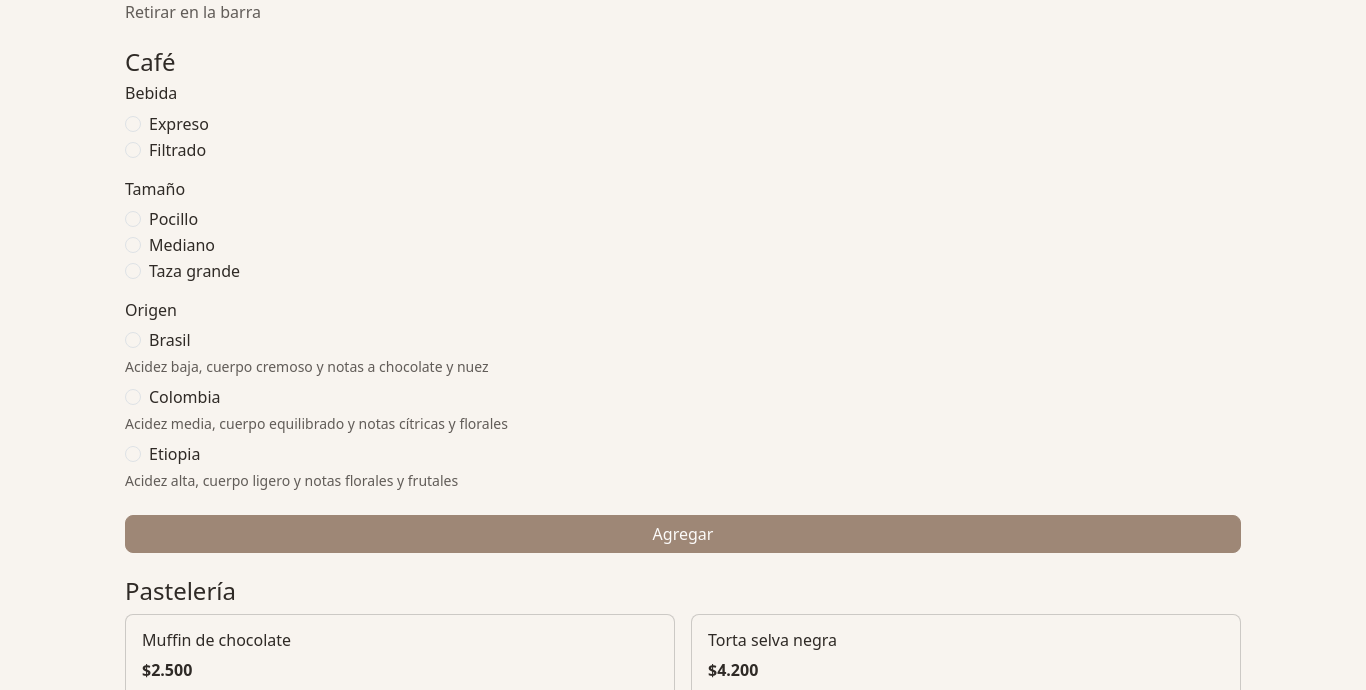
Test case: App › muestra el error del backend y no vacía el carrito si falla
Click the radio button labelled "Expreso": coordinates (133, 124) [125,116,141,132]
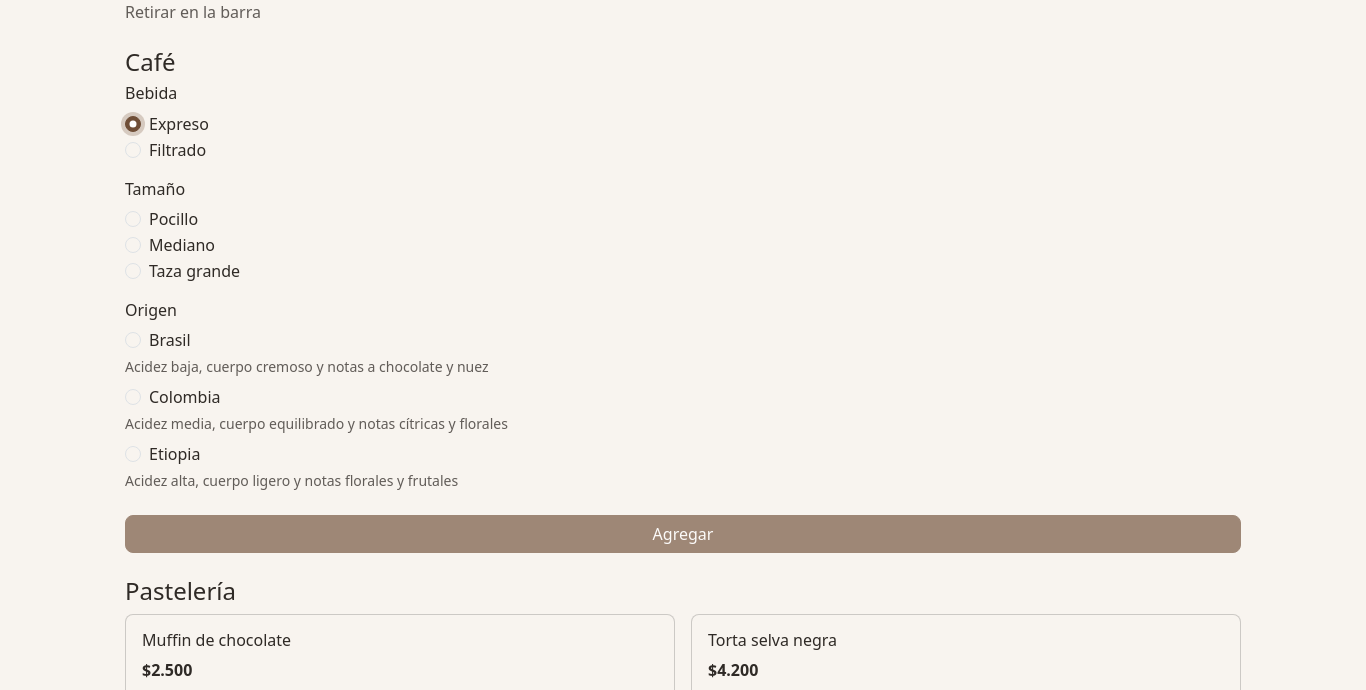
Click the radio button labelled "Mediano": coordinates (133, 245) [125,237,141,253]
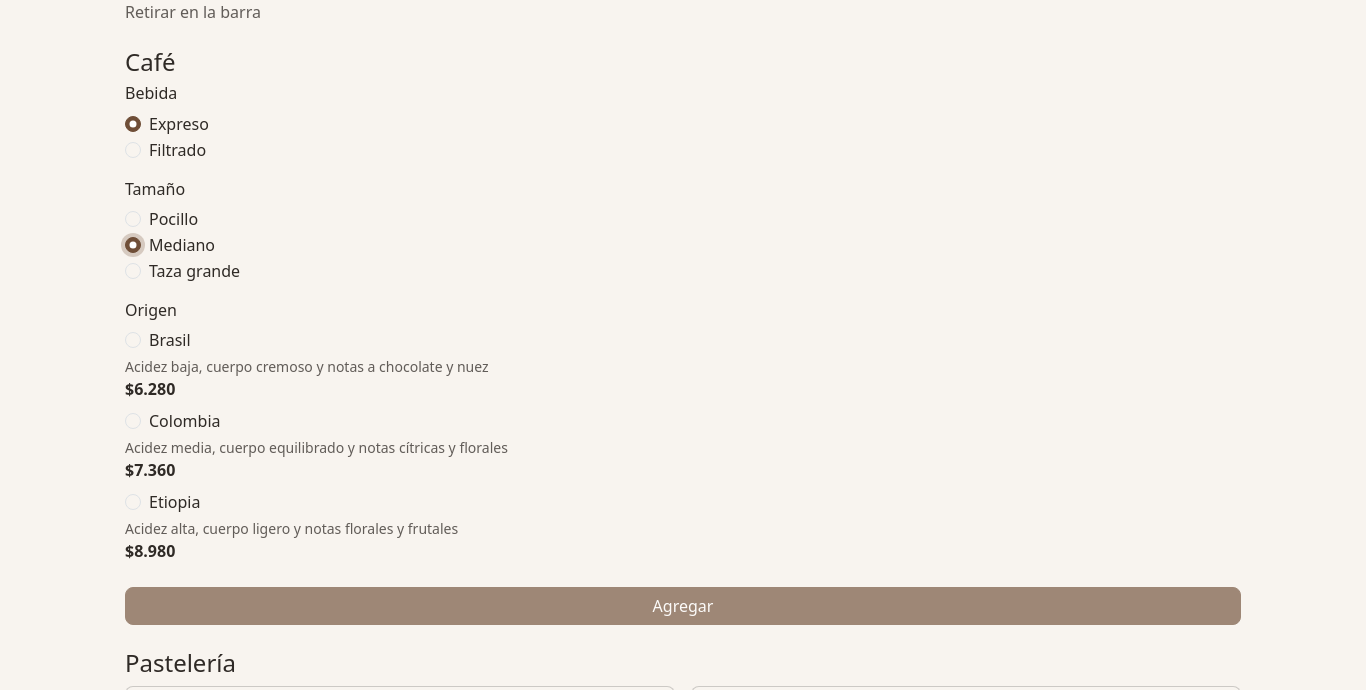
Click the radio button labelled "Colombia": coordinates (133, 421) [125,413,141,429]
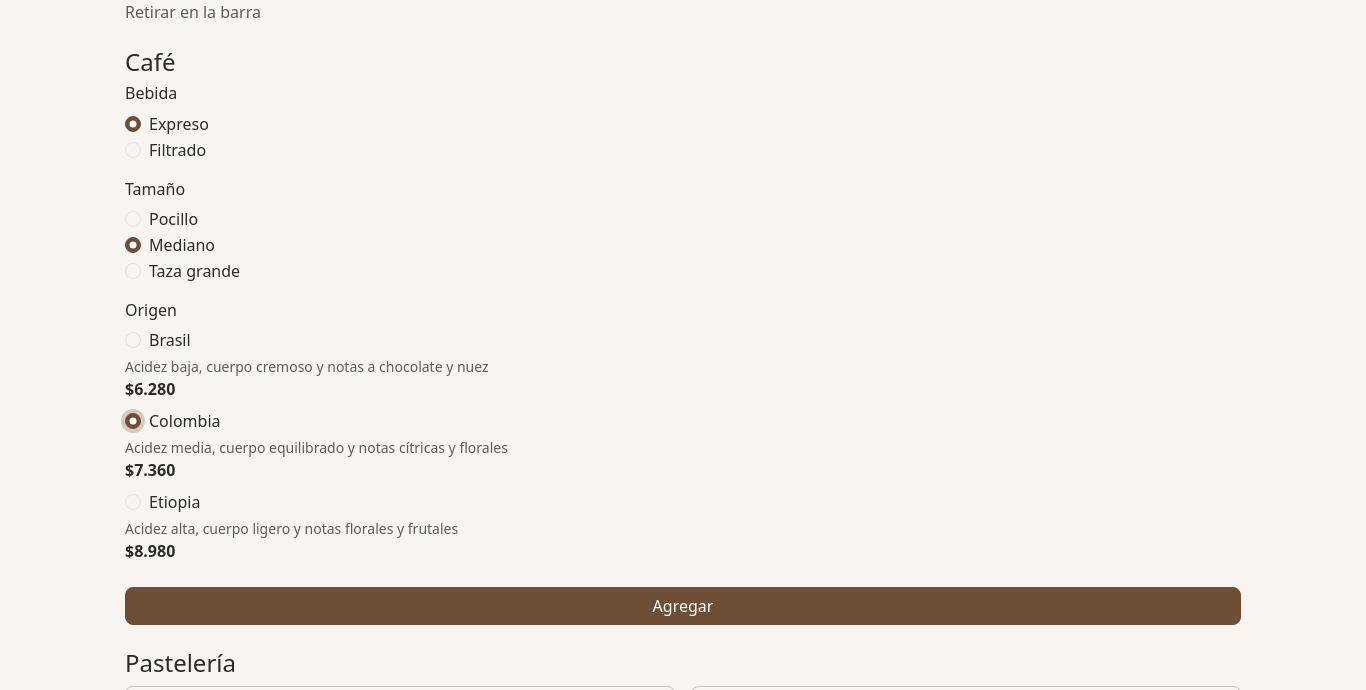
Click the button "Agregar": coordinates (683, 606) [125,587,1241,625]
(page scrolled)
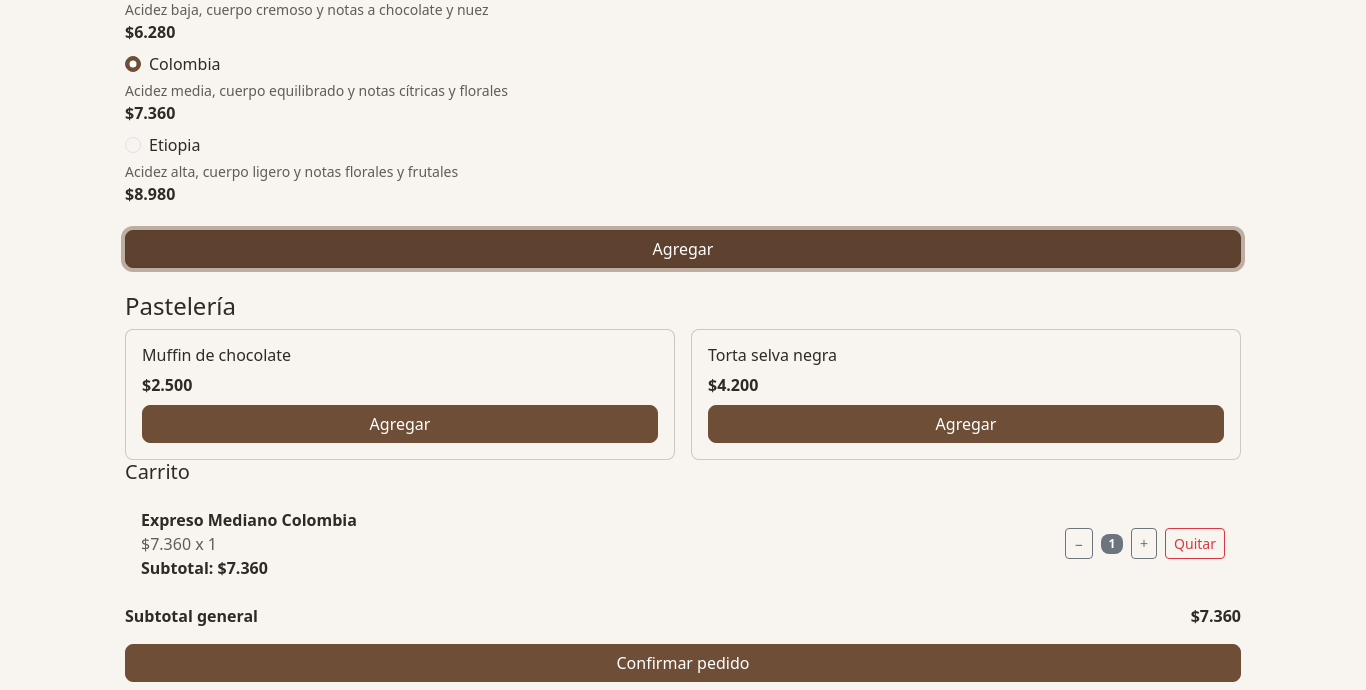
Click the button "Confirmar pedido": coordinates (683, 663) [125,644,1241,682]
(page scrolled)
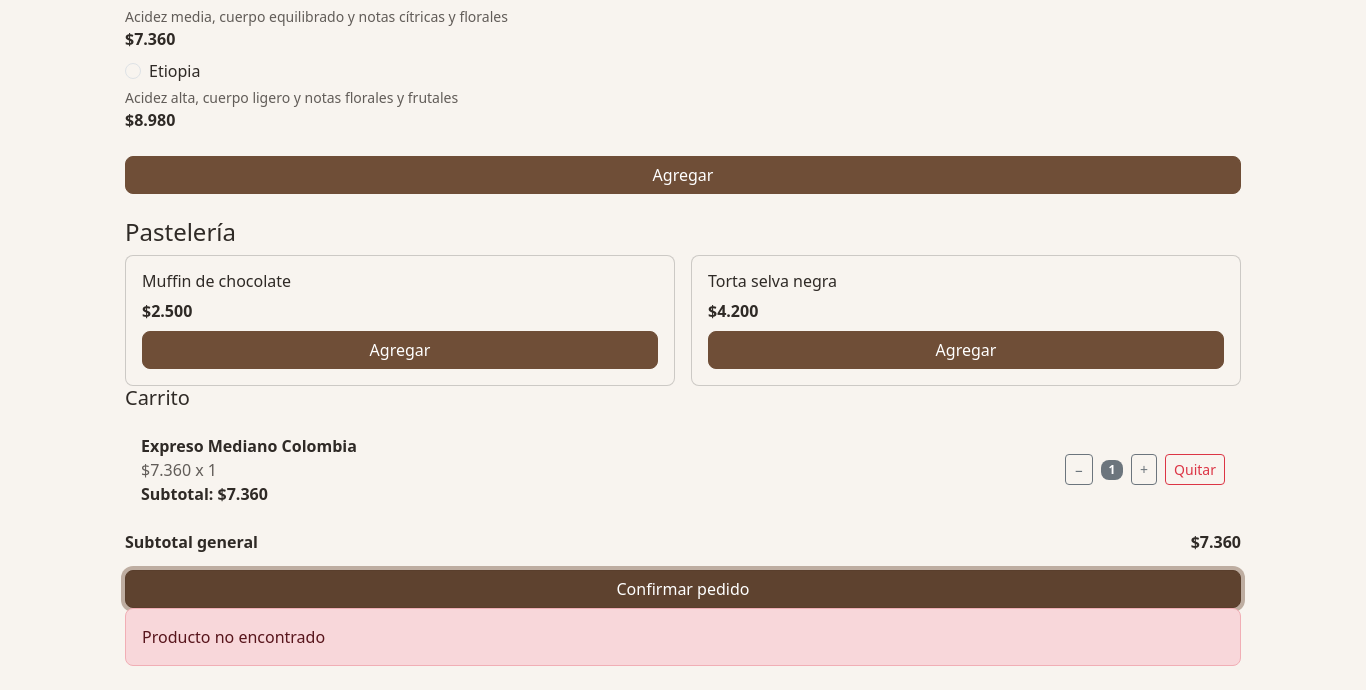
Expected: the text "Producto no encontrado" is shown, [125,608,1241,666]
